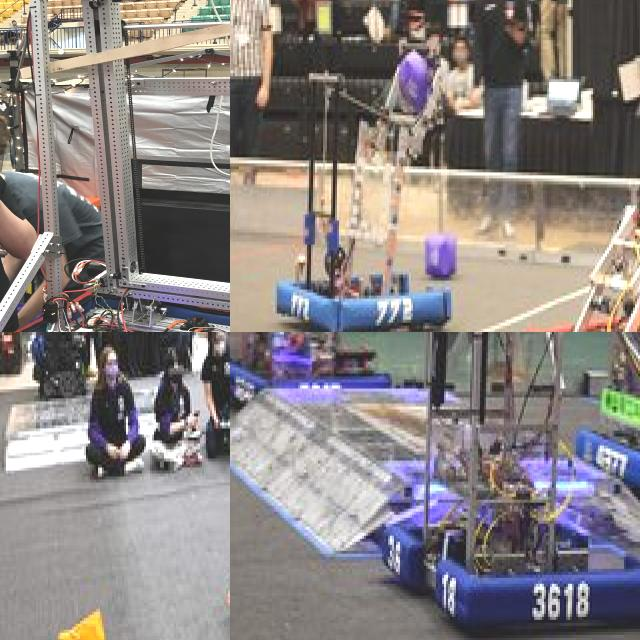FRC-Robots: (381, 332, 640, 638), (0, 0, 230, 332), (249, 0, 459, 332), (503, 0, 640, 332), (230, 332, 399, 428)
